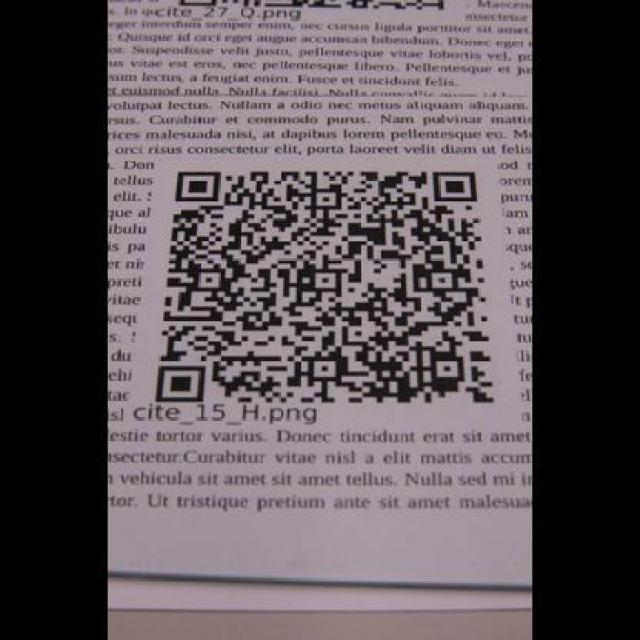QRCode: (147, 165, 505, 407)
